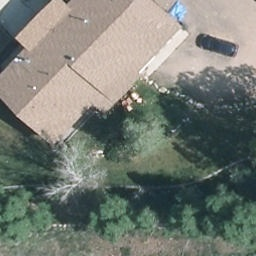car: (194, 35, 241, 59)
